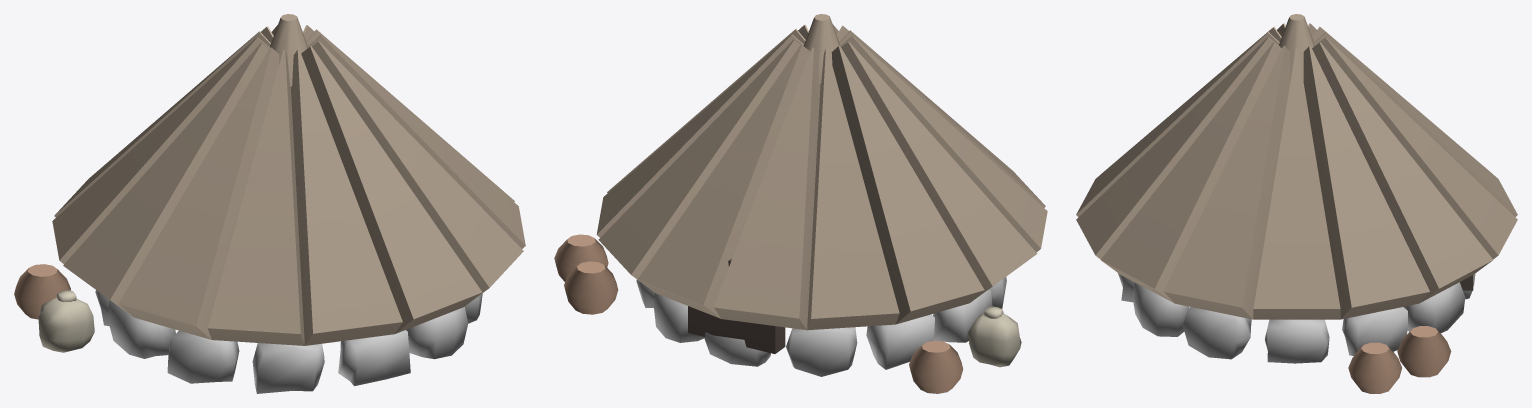
Rendered from hw_storage_pit.glb.
3 renders of one model, left to right at view 1: azimuth 30°, elevation 25°; view 2: azimuth 150°, elevation 25°; view 3: azimuth 270°, elevation 25°, orthographic. The views are drawn at different scales.
Parts seen in each view (by area): view 1: Building; view 2: Building; view 3: Building.
Boxes of the visible parts, x1,y1,x2,y2 form: Building: (14,14,525,393); Building: (554,14,1047,393); Building: (1076,14,1517,393).
Bounding box in the file's own units: 2.51 × 1.57 × 2.26.
